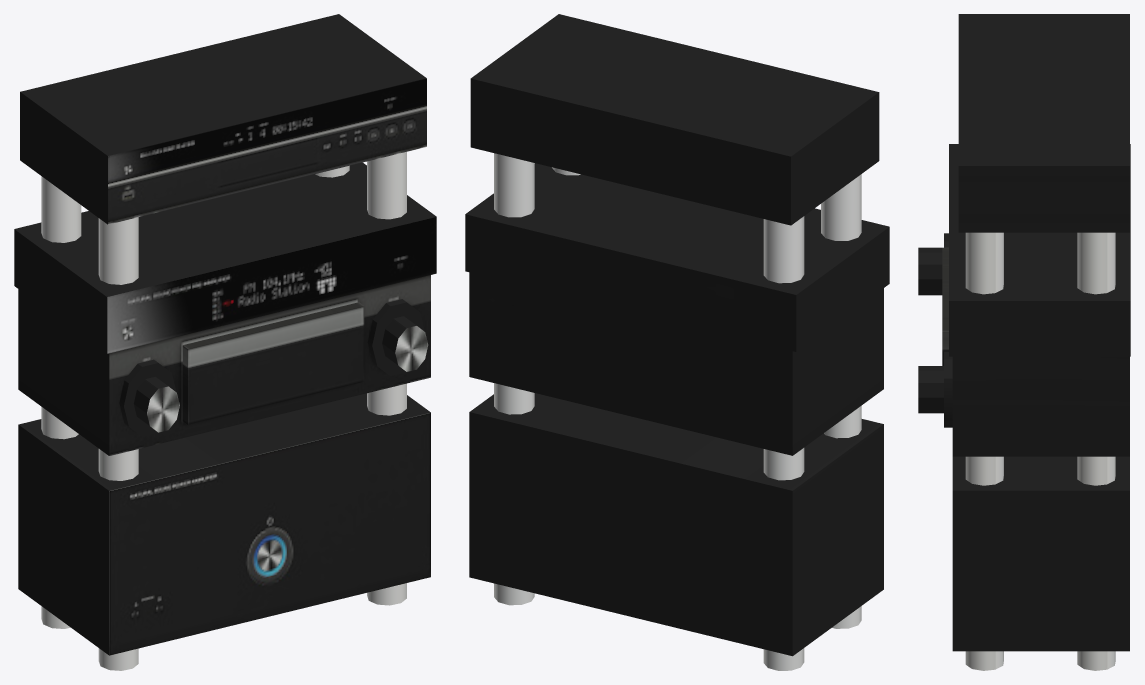
The model's file is cd_player (1).fbx.
3 renders of one model, left to right at view 1: azimuth 30°, elevation 25°; view 2: azimuth 150°, elevation 25°; view 3: azimuth 270°, elevation 25°, orthographic. The views are drawn at different scales.
Visible parts, largest first — view 1: cd_player, caste; view 2: cd_player; view 3: cd_player, caste.
Part boxes in pixels (left/top/right/bottom): cd_player: left=14, top=14, right=436, bottom=670; caste: left=182, top=302, right=364, bottom=424; cd_player: left=465, top=14, right=889, bottom=670; cd_player: left=918, top=14, right=1130, bottom=670; caste: left=942, top=247, right=948, bottom=365.
Bounding box in the file's own units: 6.24 × 9.44 × 3.56.
